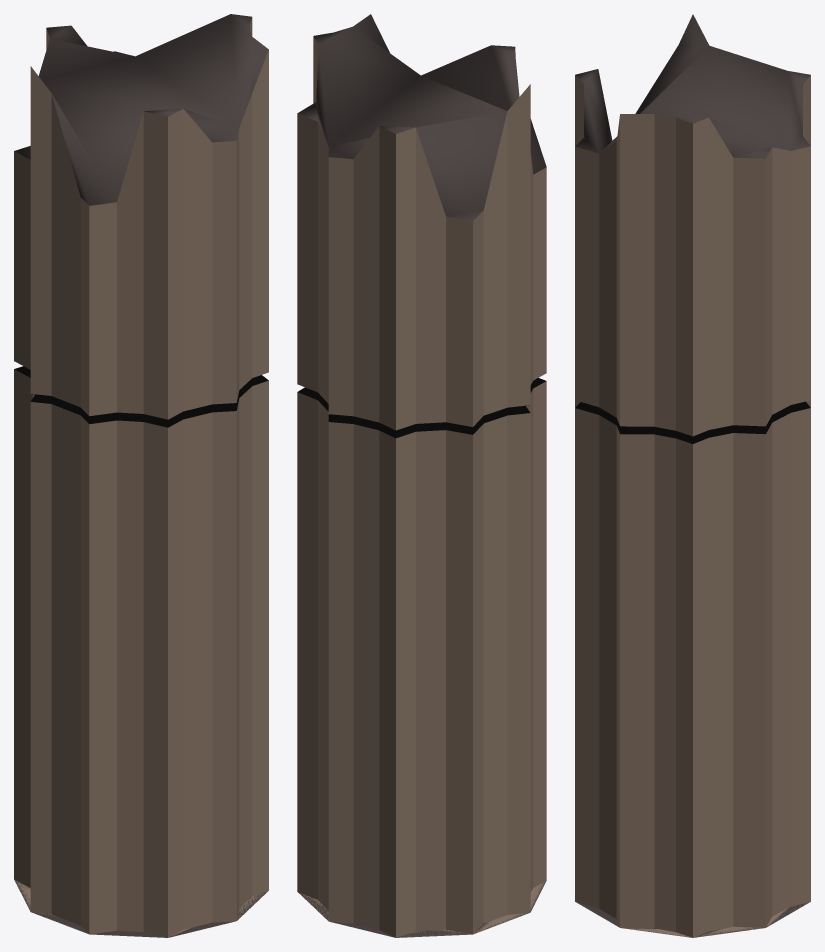
File: ruin8.fbx
3 renders of one model, left to right at view 1: azimuth 30°, elevation 25°; view 2: azimuth 150°, elevation 25°; view 3: azimuth 270°, elevation 25°, orthographic. The views are drawn at different scales.
Parts seen in each view (by area): view 1: PillarSegmentOne200; view 2: PillarSegmentOne200; view 3: PillarSegmentOne200.
Part boxes in pixels (x1,y1,x2,y2): PillarSegmentOne200: (14,14,268,937); PillarSegmentOne200: (297,14,546,937); PillarSegmentOne200: (575,14,810,937).
Bounding box in the file's own units: 1438 × 5242 × 1368.
